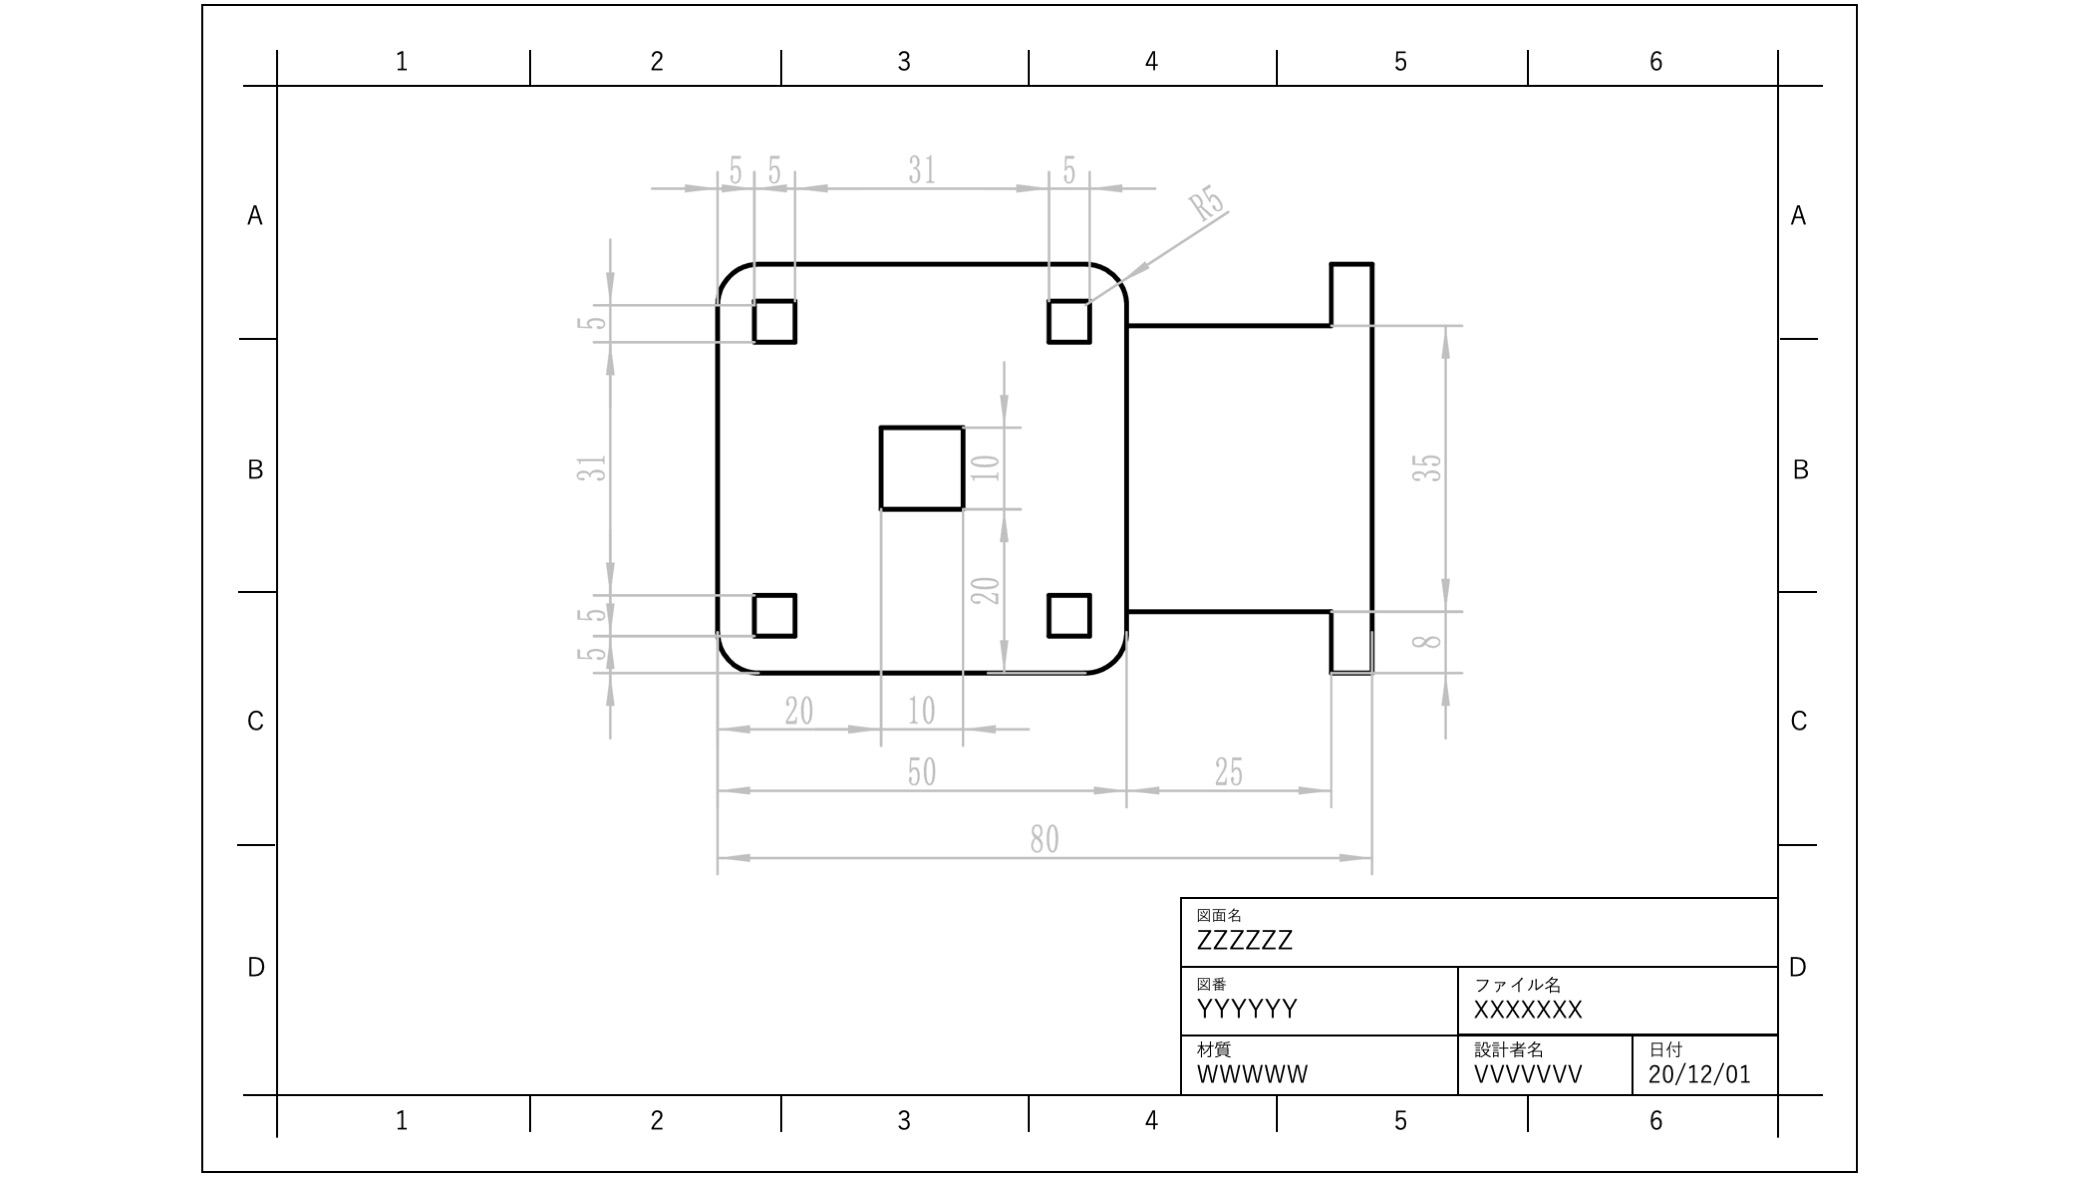rectangle: (865, 408, 976, 528), (1028, 286, 1108, 352), (736, 575, 808, 647), (743, 287, 812, 359), (1037, 585, 1103, 646)
